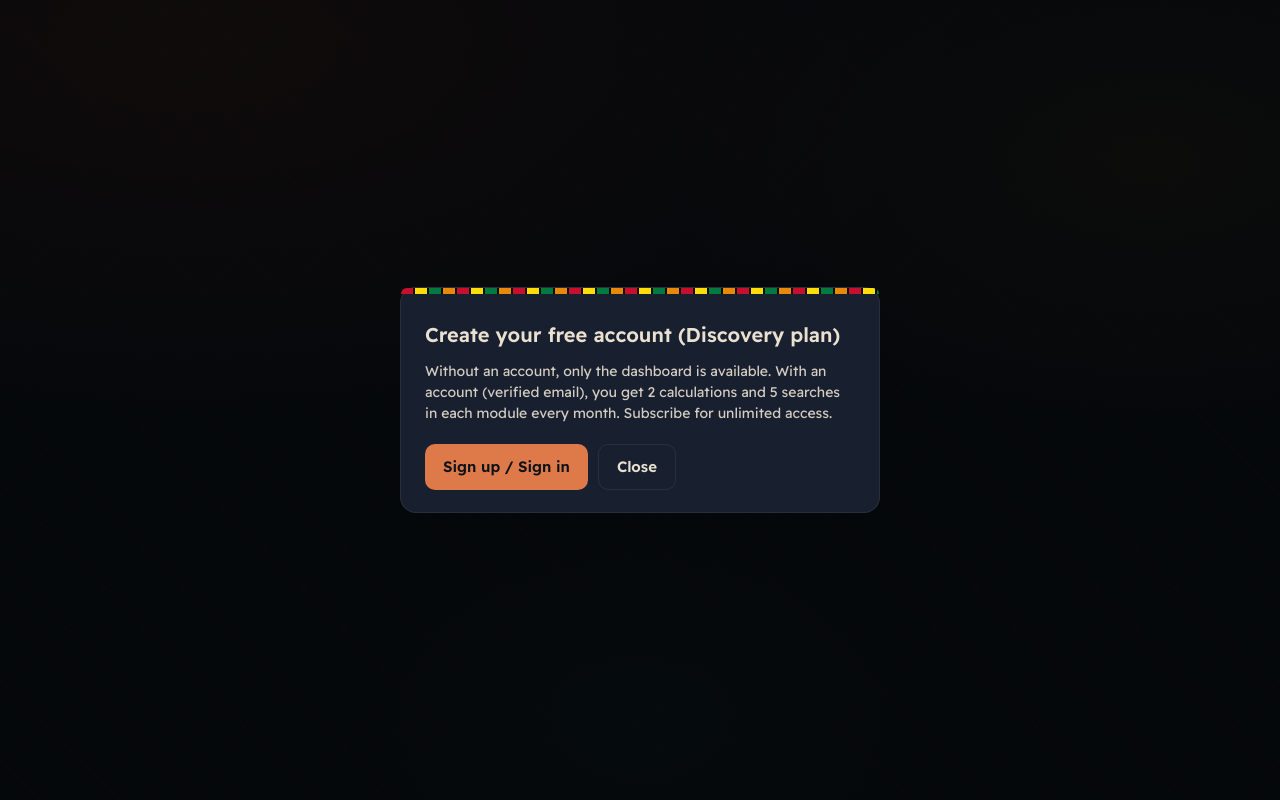
Test: InvitationAbonnement › ouvre la connexion pour un visiteur sans compte
Step 1. Click the button "Sign up / Sign in" → {"x": 506, "y": 467}, box x1=425 y1=444 x2=588 y2=490
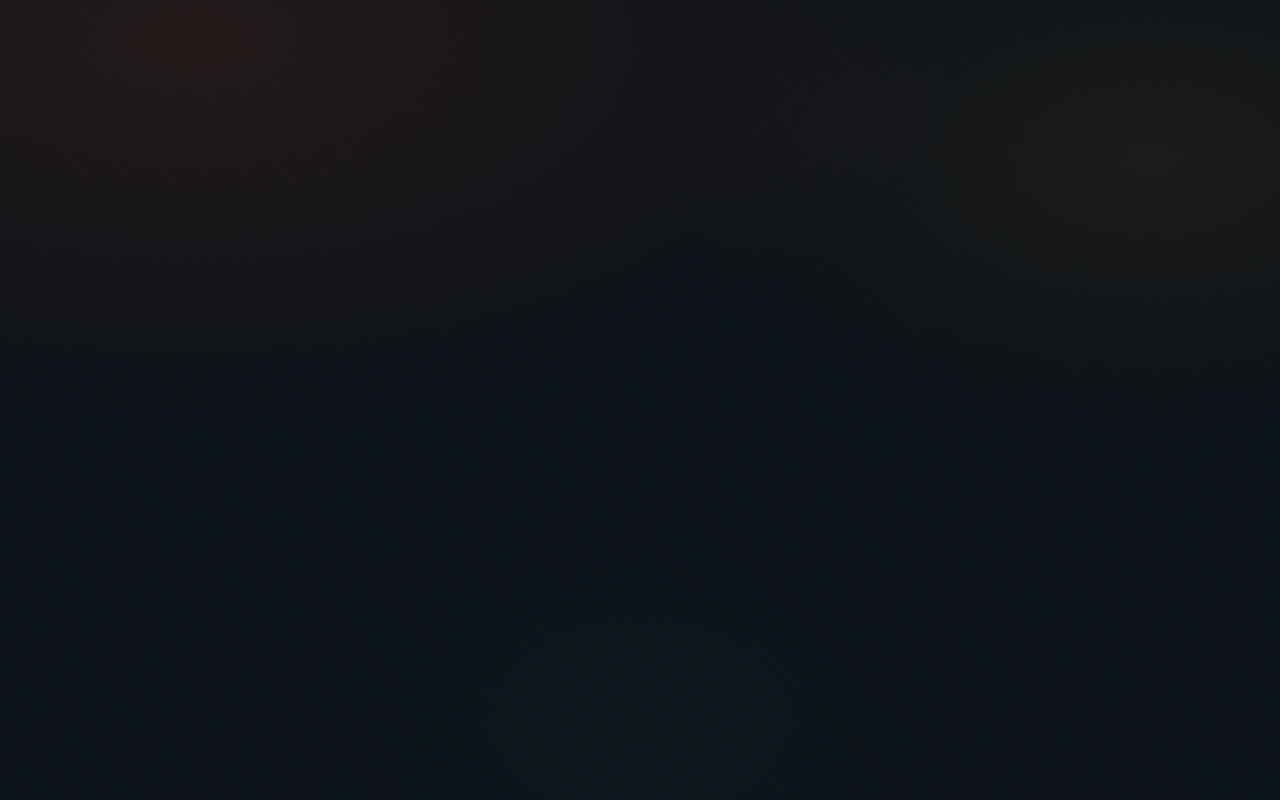
Check: the dialog is gone
